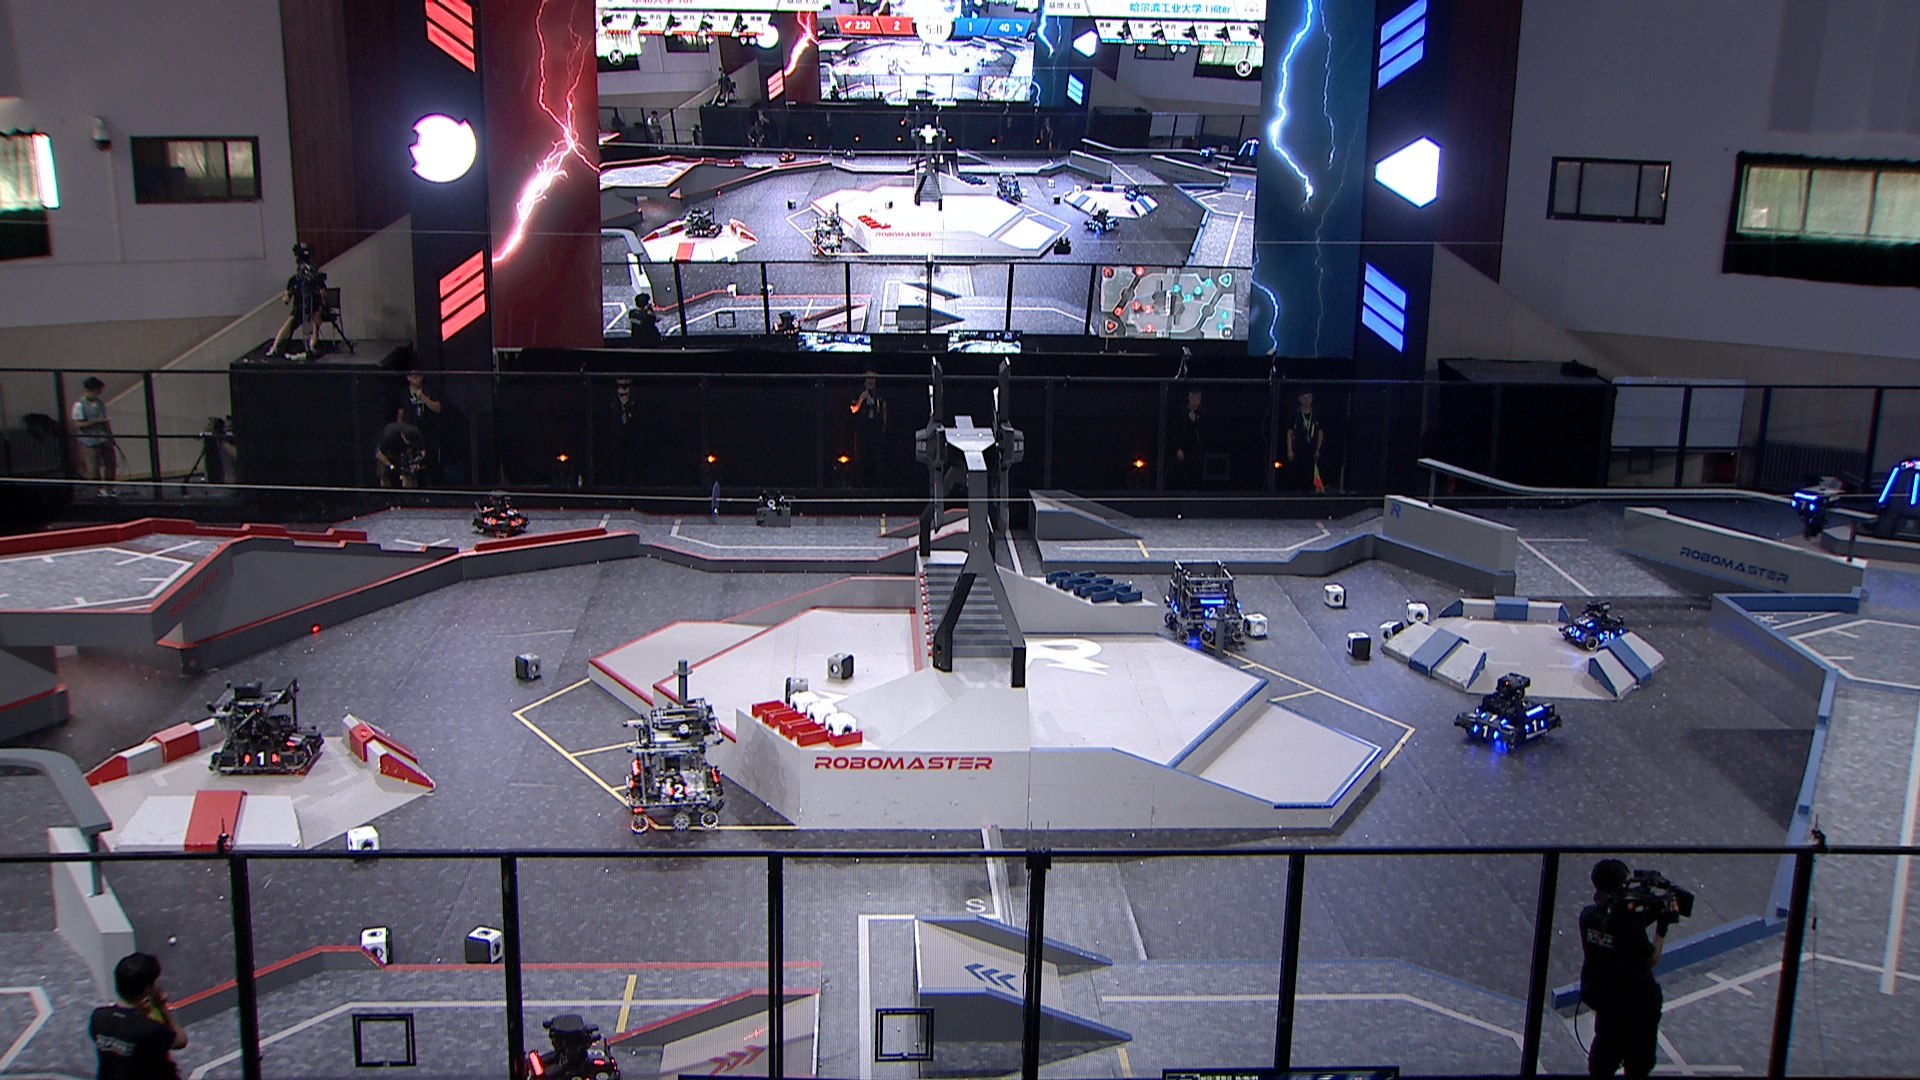armor: (1876, 463, 1902, 505), (1472, 721, 1501, 740), (299, 737, 318, 764), (1789, 496, 1816, 512), (245, 750, 277, 764), (1481, 711, 1509, 725), (1909, 471, 1920, 508), (588, 1040, 604, 1064), (1524, 717, 1545, 733), (284, 731, 301, 749), (666, 783, 690, 796), (480, 513, 496, 527), (1567, 622, 1581, 638), (1201, 607, 1216, 621), (622, 773, 636, 789), (508, 514, 524, 527), (524, 1063, 535, 1080), (498, 508, 520, 517), (1577, 615, 1593, 626), (1600, 629, 1614, 641)
base: (1855, 450, 1920, 538)
car: (615, 698, 728, 836), (204, 678, 324, 779), (1452, 673, 1563, 750), (1162, 559, 1249, 650), (513, 1011, 615, 1080), (1557, 599, 1633, 655), (467, 488, 527, 541)
ignore: (807, 215, 847, 257), (680, 204, 723, 240), (996, 171, 1026, 207), (1230, 136, 1259, 171), (1083, 208, 1116, 235), (775, 145, 799, 167), (1196, 140, 1216, 166), (1122, 181, 1145, 200), (1904, 456, 1920, 471)
watcher: (1783, 481, 1842, 537)
